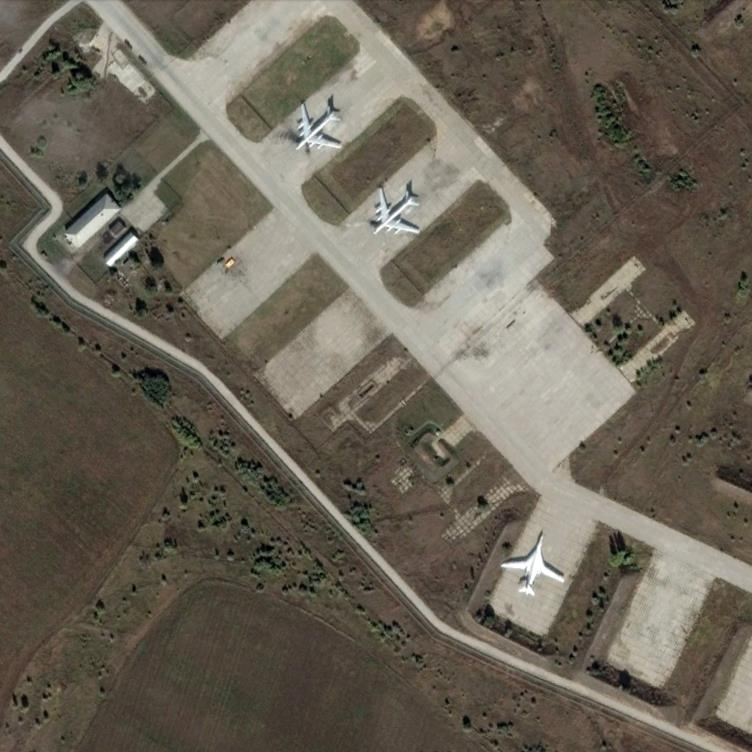A17: (368, 186, 423, 240), (293, 101, 347, 154)
A6: (501, 529, 565, 599)
